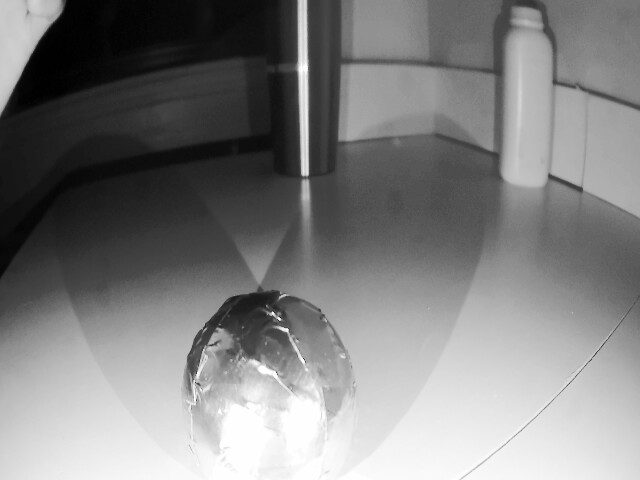black: (178, 293, 362, 480)
